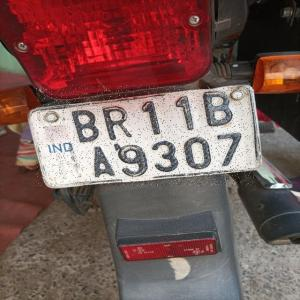Plate: (36, 85, 254, 186)
